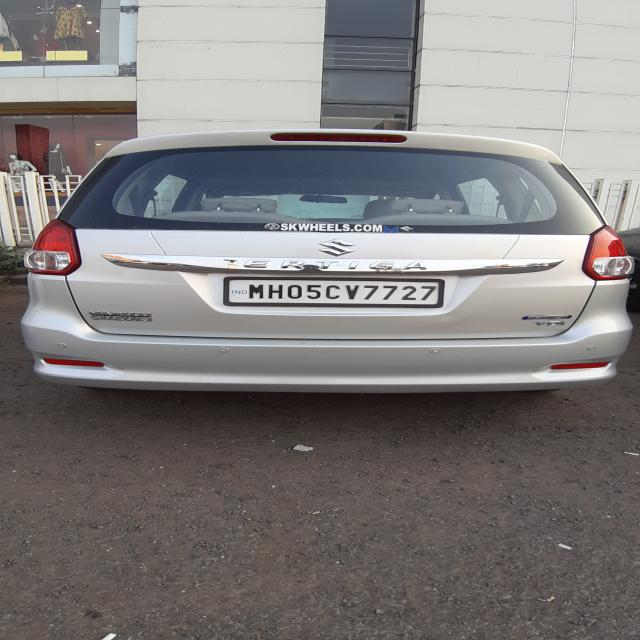Number-Plate: (225, 278, 442, 304)
